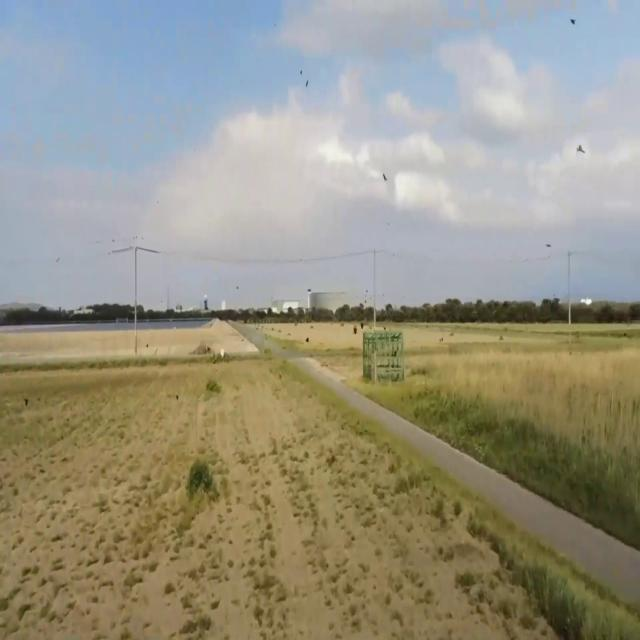bird: (576, 136, 586, 163)
